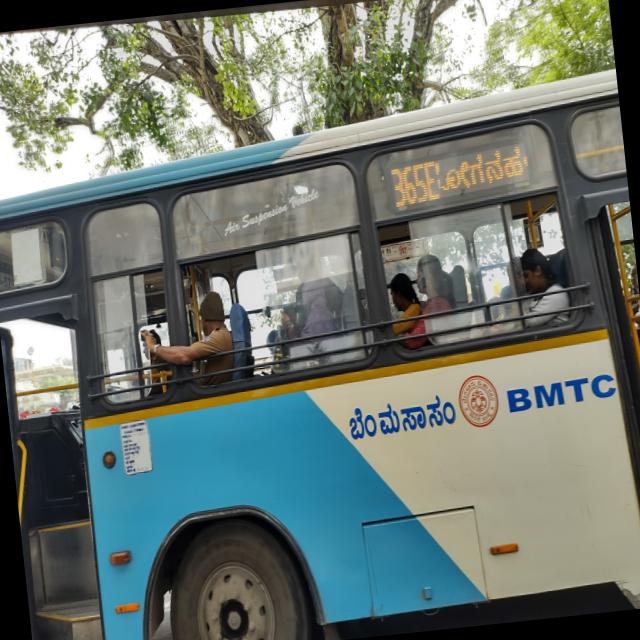bus: (0, 62, 640, 640)
display: (386, 140, 530, 208)
dnumber: (390, 158, 440, 206)
